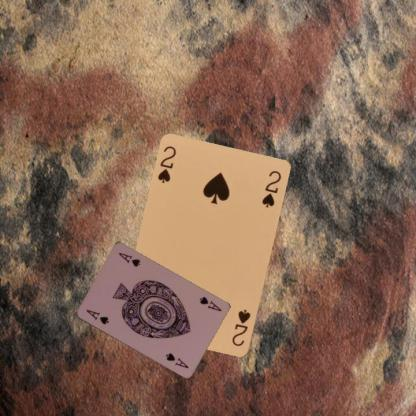2s: (229, 307, 252, 348), (156, 143, 178, 185)
As: (83, 307, 110, 326), (197, 294, 223, 313)
